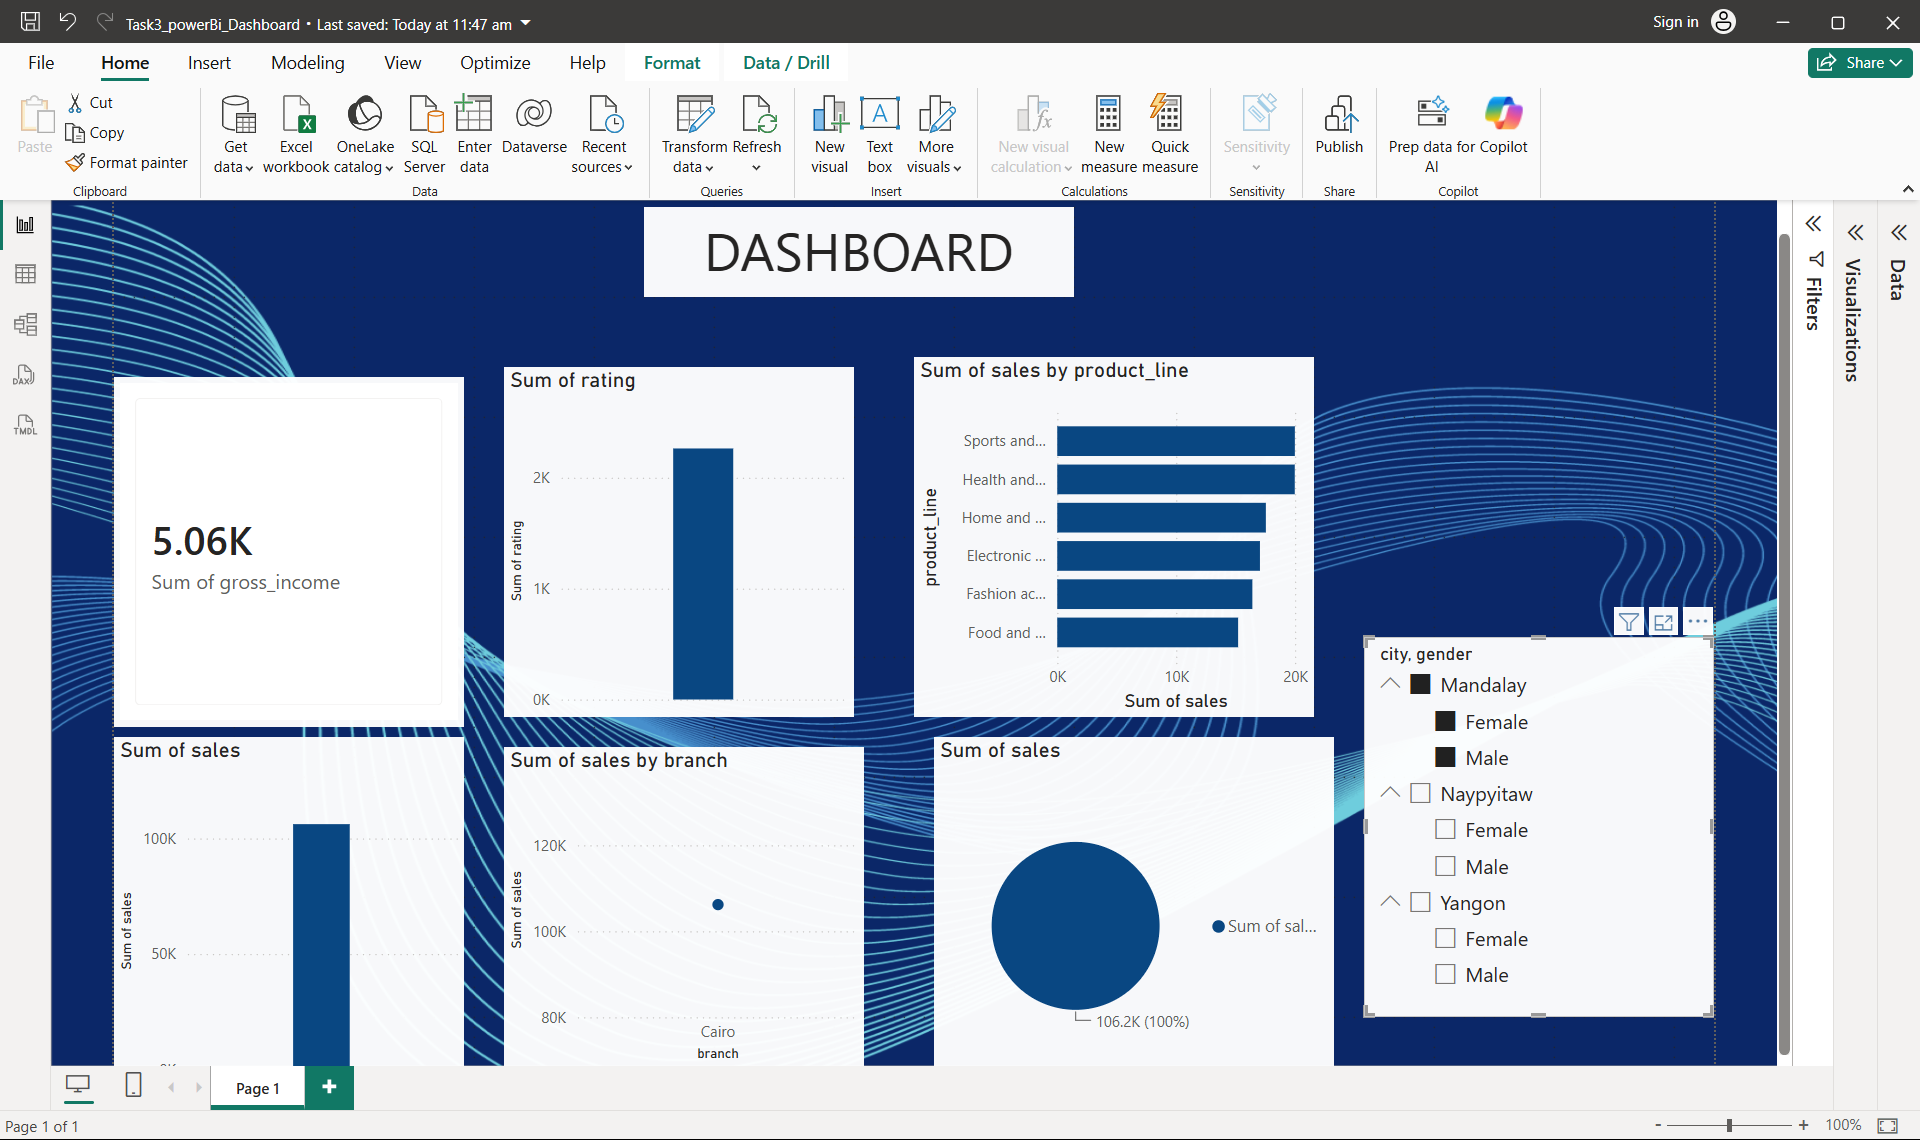

What the dashboard file says about the page in this screenshot:
{"tool":"powerbi","page":{"name":"Page 1","canvas":[1280,720],"ordinal":0},"visuals":[{"type":"textbox","box":[424,24,344,72],"z":500},{"type":"cardVisual","fields":{"Data":["Sum(cleaned_supermarket.gross_income)"]},"box":[0,160,280,280],"z":1000},{"type":"clusteredColumnChart","fields":{"Y":["Sum(cleaned_supermarket.sales)"]},"box":[0,448,280,280],"z":2000},{"type":"clusteredColumnChart","fields":{"Y":["Sum(cleaned_supermarket.rating)"]},"box":[312,152,280,280],"z":3000},{"type":"clusteredBarChart","fields":{"Category":["cleaned_supermarket.product_line"],"Y":["Sum(cleaned_supermarket.sales)"]},"box":[640,144,320,288],"z":4000},{"type":"pieChart","fields":{"Y":["Sum(cleaned_supermarket.sales)"]},"box":[656,448,320,272],"z":5000},{"type":"lineChart","fields":{"Category":["cleaned_supermarket.branch"],"Y":["Sum(cleaned_supermarket.sales)"]},"box":[312,456,288,256],"z":6000},{"type":"slicer","fields":{"Values":["cleaned_supermarket.city","cleaned_supermarket.gender"]},"box":[1000,368,280,304],"z":7000}]}

Visuals, with their boxes on the page's 1280x720 design canvas (x1, y1, x2, y2). These are canvas units, not pixel positions in the 1920x1140 screenshot, which may show the page scaled, cropped or inside an application window:
textbox: 424:24:768:96
cardVisual - Sum(cleaned_supermarket.gross_income): 0:160:280:440
clusteredColumnChart - Sum(cleaned_supermarket.sales): 0:448:280:728
clusteredColumnChart - Sum(cleaned_supermarket.rating): 312:152:592:432
clusteredBarChart - cleaned_supermarket.product_line x Sum(cleaned_supermarket.sales): 640:144:960:432
pieChart - Sum(cleaned_supermarket.sales): 656:448:976:720
lineChart - cleaned_supermarket.branch x Sum(cleaned_supermarket.sales): 312:456:600:712
slicer - cleaned_supermarket.city x cleaned_supermarket.gender: 1000:368:1280:672
